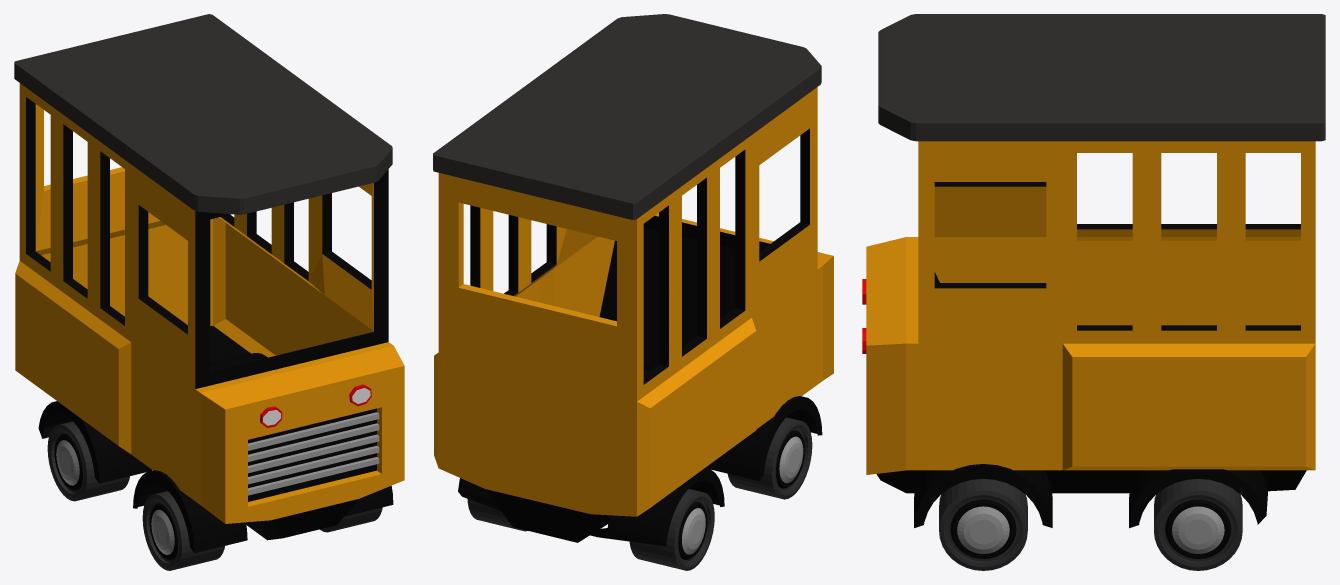
Rendered from busV2.fbx.
3 views of the same model, side by side, from view 1: azimuth 30°, elevation 25°; view 2: azimuth 150°, elevation 25°; view 3: azimuth 270°, elevation 25° (orthographic). The views are drawn at different scales.
Visible parts, largest first — view 1: wheelArch, busRoof; view 2: wheelArch, busRoof; view 3: wheelArch, busRoof.
Boxes of the visible parts, left/top/right/bottom form: wheelArch: left=15, top=83, right=404, bottom=570; busRoof: left=14, top=14, right=392, bottom=214; wheelArch: left=434, top=87, right=833, bottom=570; busRoof: left=433, top=14, right=821, bottom=219; wheelArch: left=862, top=141, right=1315, bottom=570; busRoof: left=878, top=14, right=1325, bottom=141.
Bounding box in the file's own units: 245 × 439 × 413.
